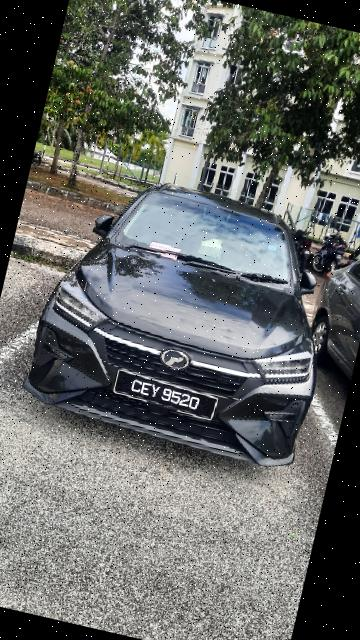License_Plate: (103, 365, 226, 428)
car: (15, 160, 355, 479)
